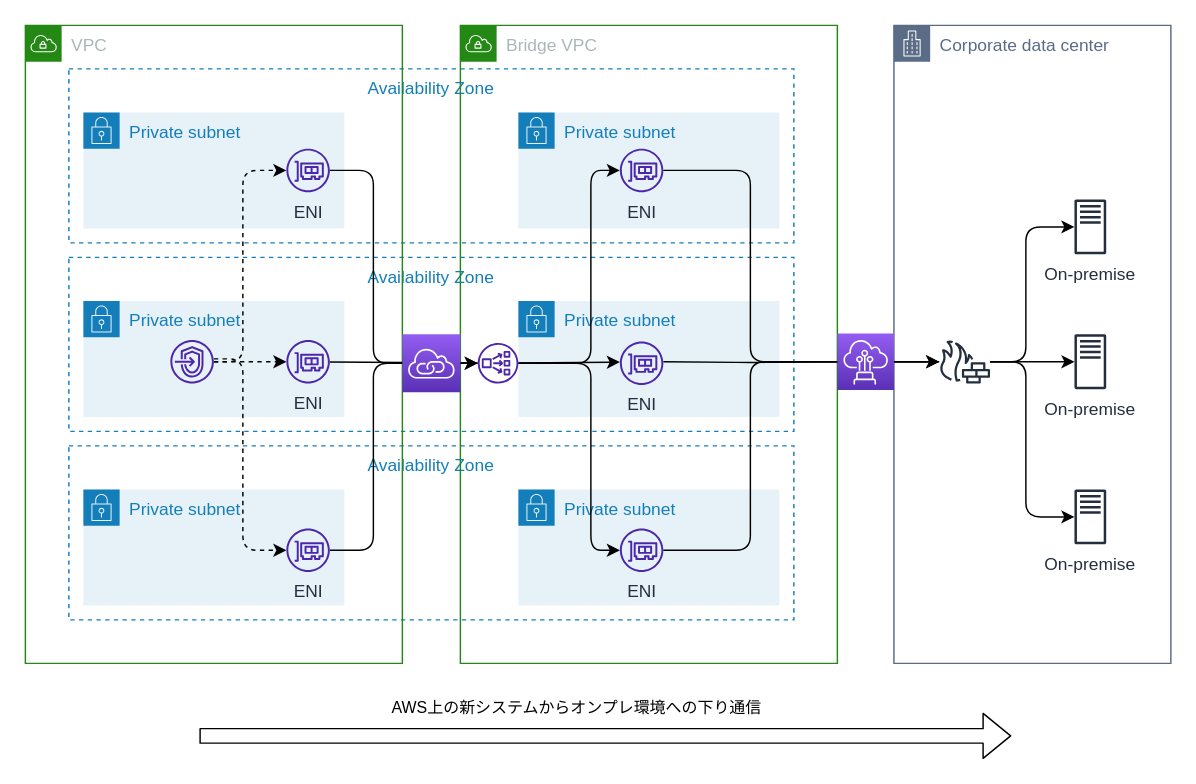
Image size: 1196x784. Some labels were removed from this diagram. The shapes that lost their labels are listed below. From the top down, each one's centre as x and y in pixels, then its label:
At pixel 191 361: "VPC Endpoint".
At pixel 430 362: "PrivateLink".
At pixel 497 362: "NLB".
At pixel 865 361: "Direct Connect".
At pixel 964 361: "FIrewall".
